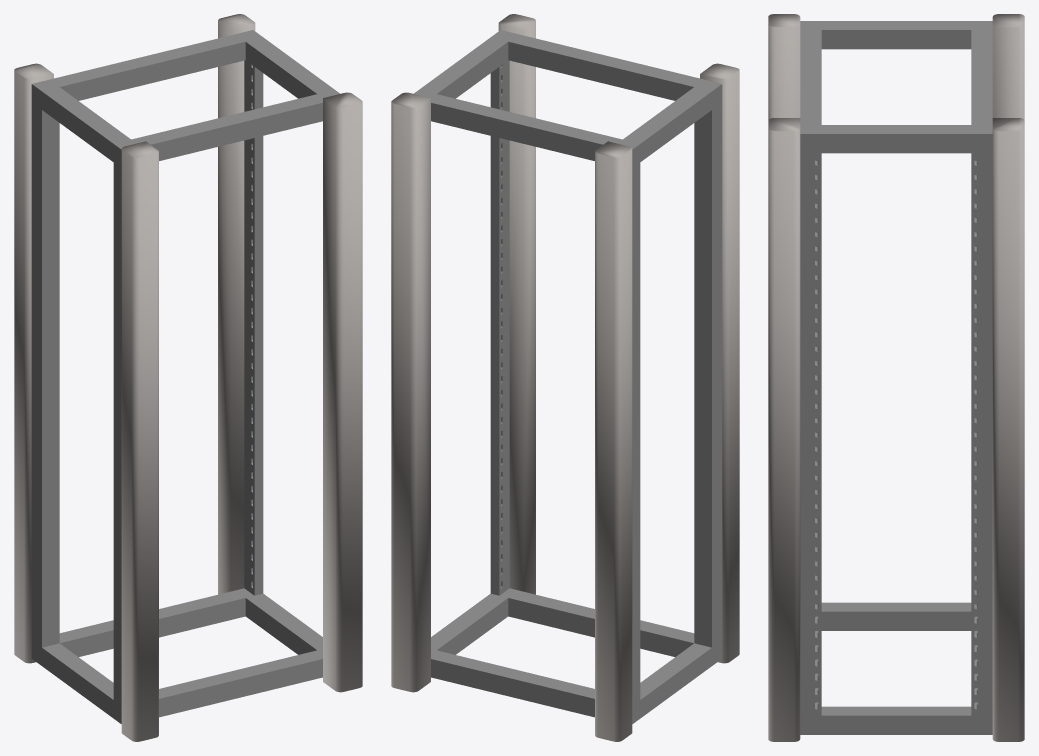
The model's file is serverrack.glb.
3 renders of one model, left to right at view 1: azimuth 30°, elevation 25°; view 2: azimuth 150°, elevation 25°; view 3: azimuth 270°, elevation 25°, orthographic. The views are drawn at different scales.
Visible parts, largest first — view 1: ServerRack, Frame; view 2: ServerRack, Frame; view 3: Frame, ServerRack.
Boxes of the visible parts, bbox=[...] form: ServerRack: bbox=[14, 14, 362, 741]; Frame: bbox=[31, 30, 340, 723]; ServerRack: bbox=[391, 14, 739, 741]; Frame: bbox=[413, 30, 722, 723]; Frame: bbox=[800, 21, 992, 734]; ServerRack: bbox=[768, 14, 1024, 741].
Bounding box in the file's own units: 0.7923 × 1.92 × 0.7313.
Materials: 2 (2 with a texture image).
